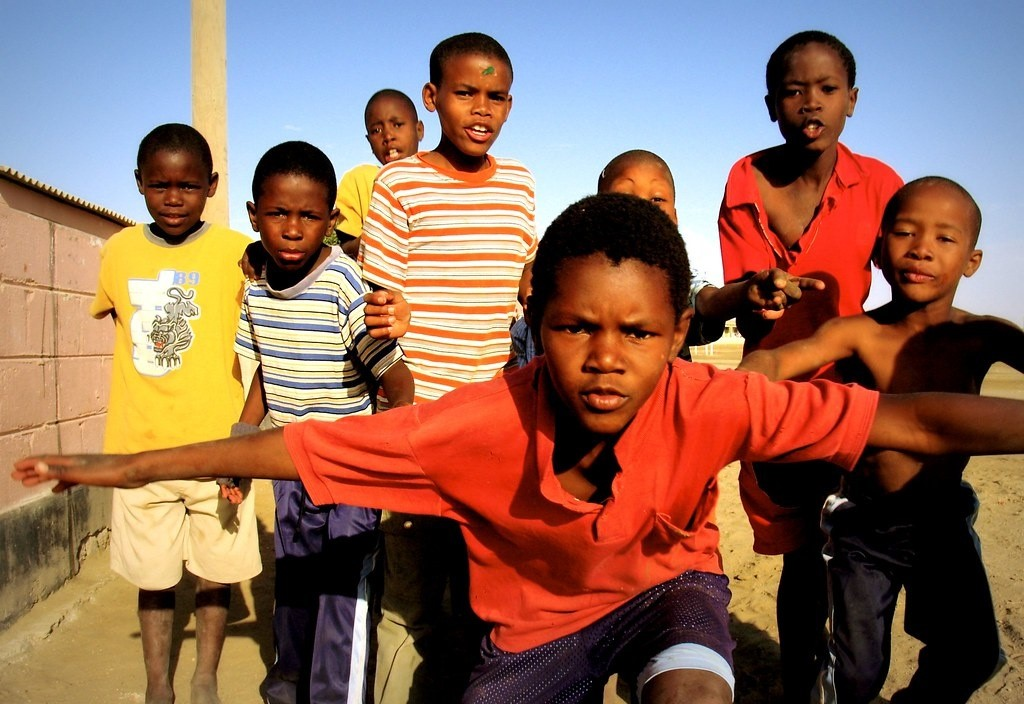face_no_mask: (537, 195, 693, 432), (884, 174, 986, 302), (248, 138, 343, 266), (763, 31, 859, 149), (421, 30, 511, 155), (131, 122, 217, 238), (596, 148, 684, 238), (361, 91, 424, 169)
